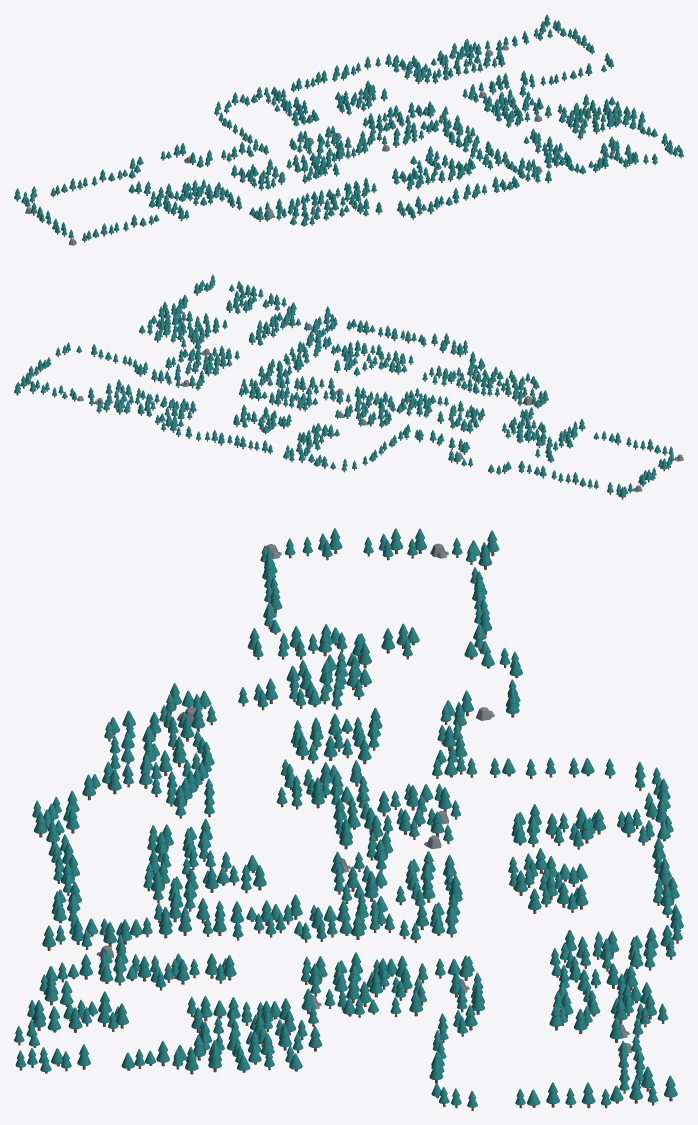
Rendered from Objetos (3).fbx.
3 renders of one model, top to bottom at view 1: azimuth 30°, elevation 25°; view 2: azimuth 150°, elevation 25°; view 3: azimuth 270°, elevation 25°, orthographic. The views are drawn at different scales.
Bounding box in the file's own units: 237 × 5.13 × 120.
